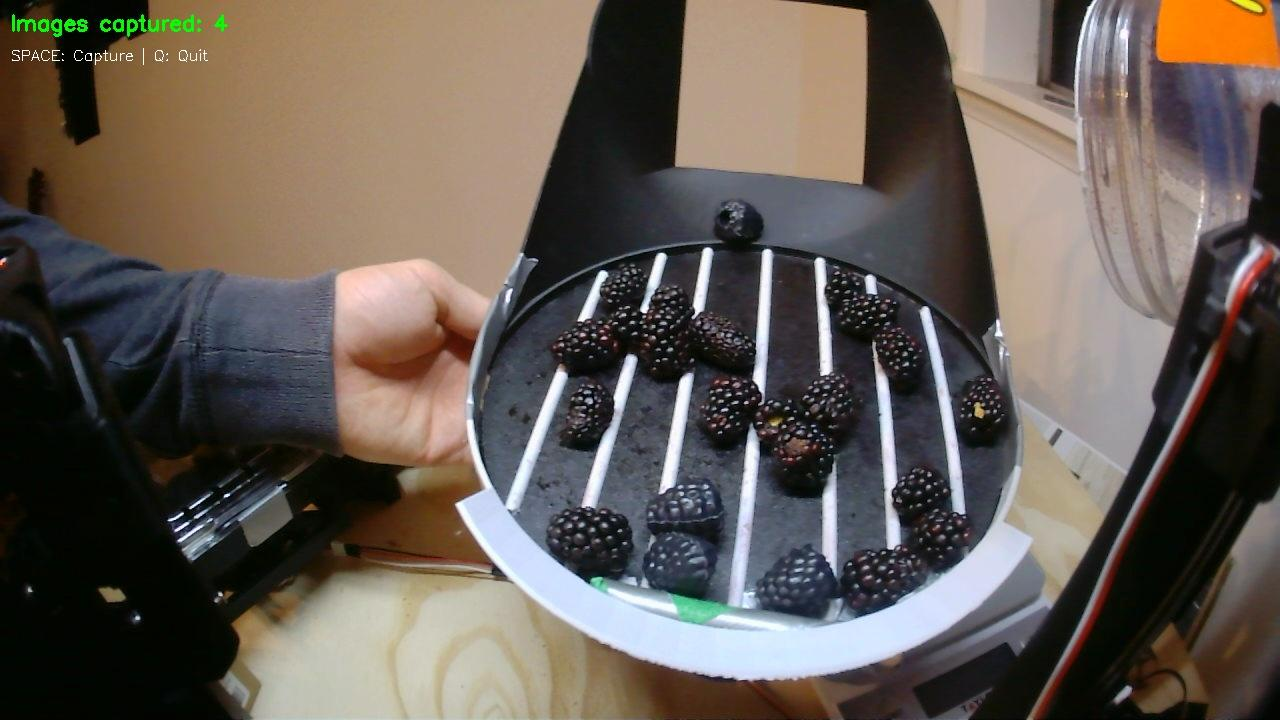berry: (546, 506, 633, 577), (755, 544, 836, 617), (840, 545, 925, 614), (638, 285, 693, 379), (771, 417, 835, 493), (646, 480, 724, 541), (644, 532, 717, 597), (700, 375, 761, 445), (690, 311, 755, 371), (549, 318, 621, 372), (801, 373, 860, 438), (560, 379, 614, 448), (910, 509, 972, 569), (956, 375, 1008, 443), (873, 325, 923, 392), (893, 465, 950, 523), (836, 293, 897, 340), (753, 398, 800, 448), (714, 199, 763, 245), (600, 263, 646, 309), (608, 304, 643, 351), (824, 267, 864, 308)
